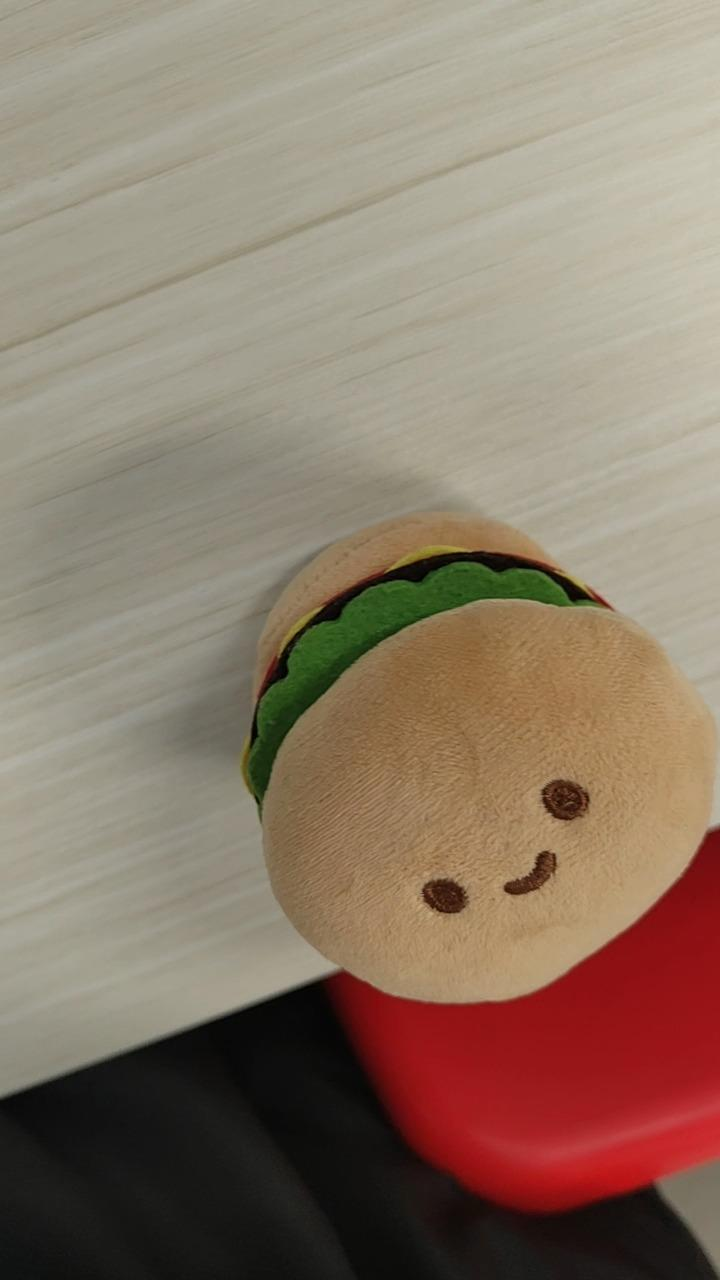hamburger: (239, 508, 718, 1213)
